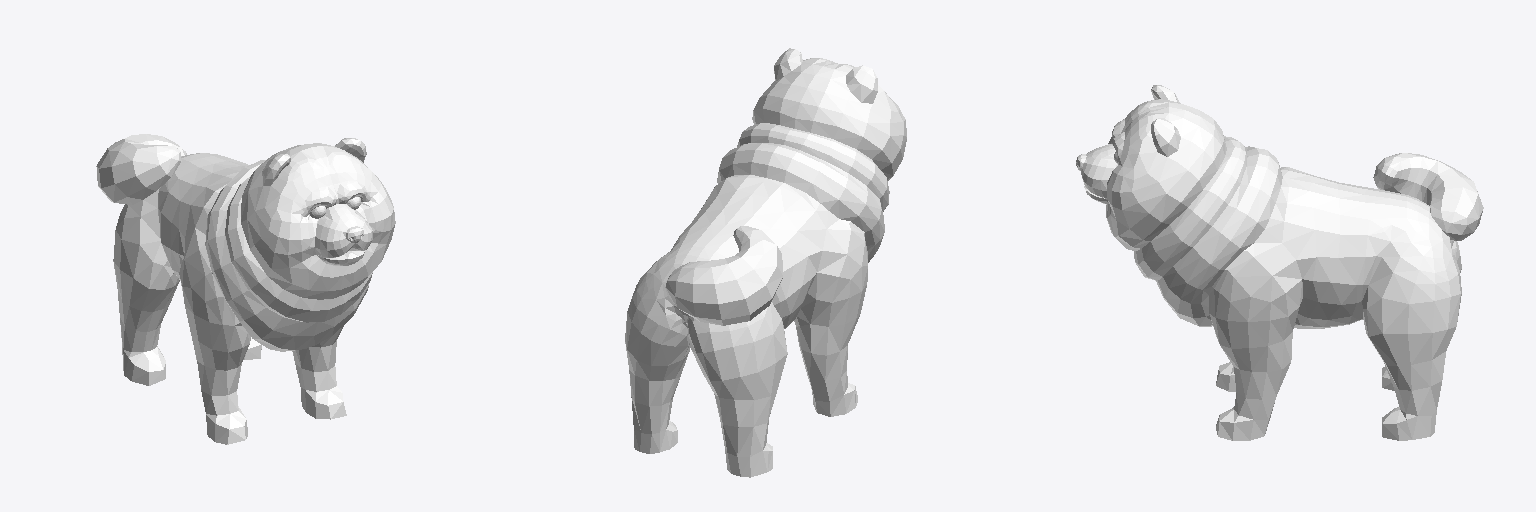
Rendered from PerroRojo2.obj.
3 views of the same model, side by side, from view 1: azimuth 30°, elevation 25°; view 2: azimuth 150°, elevation 25°; view 3: azimuth 270°, elevation 25° (orthographic).
Visible parts, largest first — view 1: Group24122; view 2: Group24122; view 3: Group24122.
Boxes of the visible parts, <box> form: Group24122: <box>96,134,395,444</box>; Group24122: <box>625,48,906,477</box>; Group24122: <box>1076,85,1483,440</box>.
Size of the model in its own units: 0.3586 by 0.6623 by 0.7945.